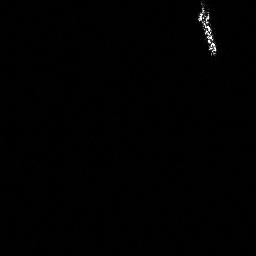ship: (192, 1, 221, 58)
